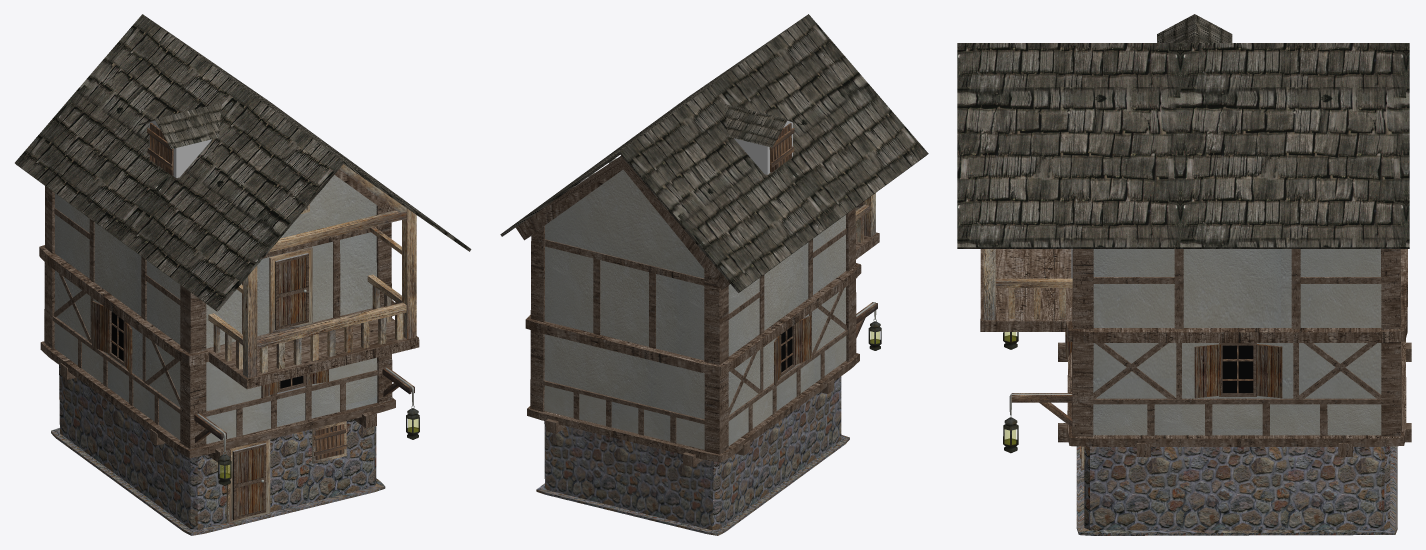
The model's file is Barrack.obj.
The picture shows the model from 3 angles, left to right: view 1: azimuth 30°, elevation 25°; view 2: azimuth 150°, elevation 25°; view 3: azimuth 270°, elevation 25°; orthographic projection. The views are drawn at different scales.
Parts seen in each view (by area): view 1: Plane001; view 2: Plane001; view 3: Plane001.
Boxes of the visible parts, x1=… form: Plane001: x1=15, y1=14, x2=471, y2=535; Plane001: x1=500, y1=14, x2=928, y2=535; Plane001: x1=957, y1=14, x2=1411, y2=535.
Bounding box in the file's own units: 90.2 × 131 × 123.
